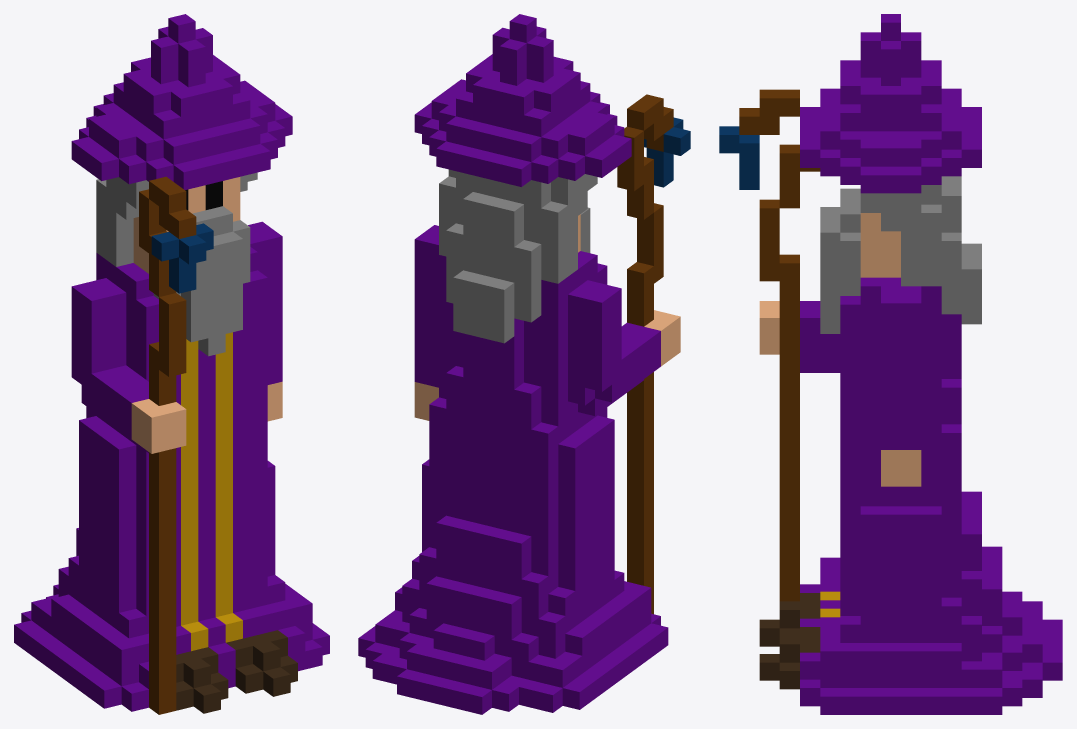
The model's file is Wizard.obj.
The picture shows the model from 3 angles, left to right: view 1: azimuth 30°, elevation 25°; view 2: azimuth 150°, elevation 25°; view 3: azimuth 270°, elevation 25°; orthographic projection. The views are drawn at different scales.
Size of the model in its own units: 13 by 35 by 17.
Materials: 1 (1 with a texture image).
